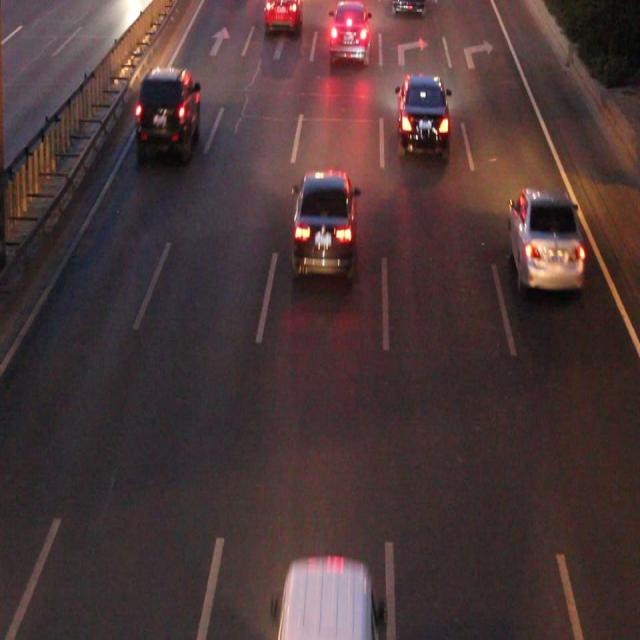car: (508, 191, 581, 287), (294, 174, 354, 275), (139, 74, 199, 154), (398, 75, 448, 153), (330, 1, 369, 62), (265, 1, 301, 29), (392, 2, 423, 15)
truck: (281, 560, 371, 640)
